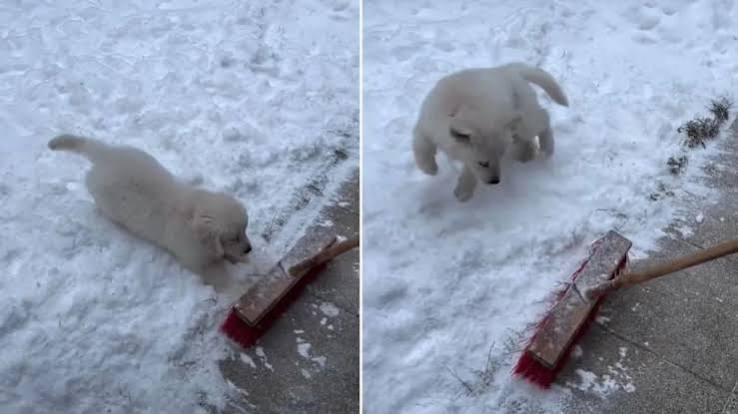puppy-dog: (45, 130, 255, 295), (412, 60, 573, 203)
